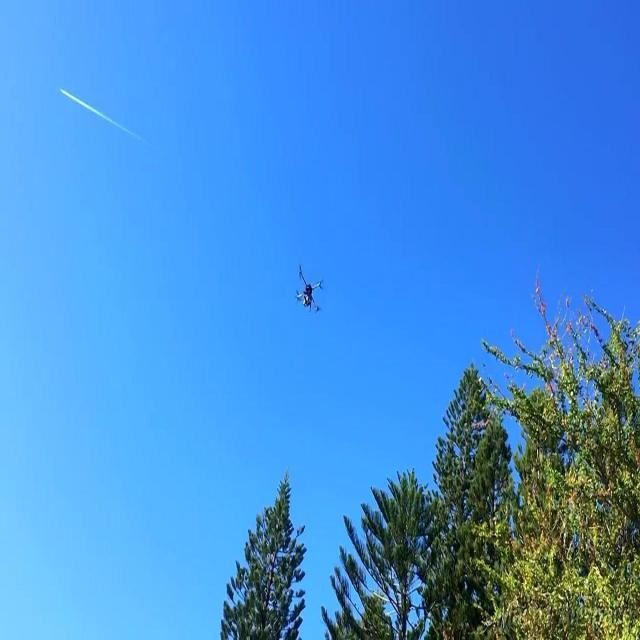UAV: (296, 265, 322, 314)
